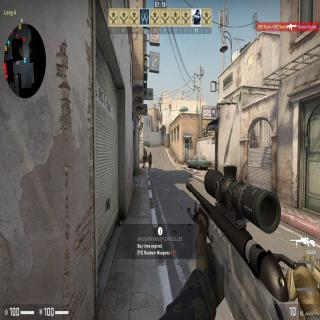T-Body: (147, 150, 153, 170), (141, 151, 146, 168)
T-Head: (150, 151, 152, 155), (144, 152, 145, 156)
